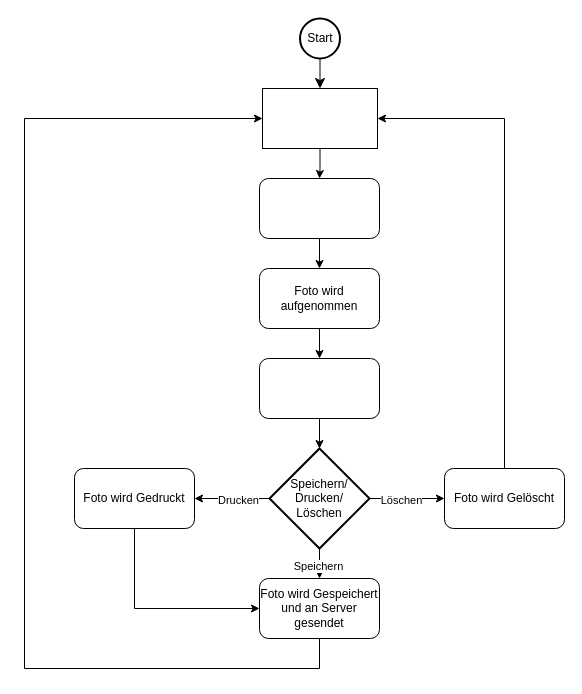
The diagram is 582 pixels wide and 694 high, and some of its shapes have lost their labels. The shapes that lost their labels are listed below. From the top down, each one's box as (x1, y1, x2, y2) in pixels, then its label:
(262, 88, 378, 148): Foto Aufnahme Prozess
(258, 178, 380, 238): Benutzer drückt start
(258, 358, 380, 418): Foto wird angezeigt
